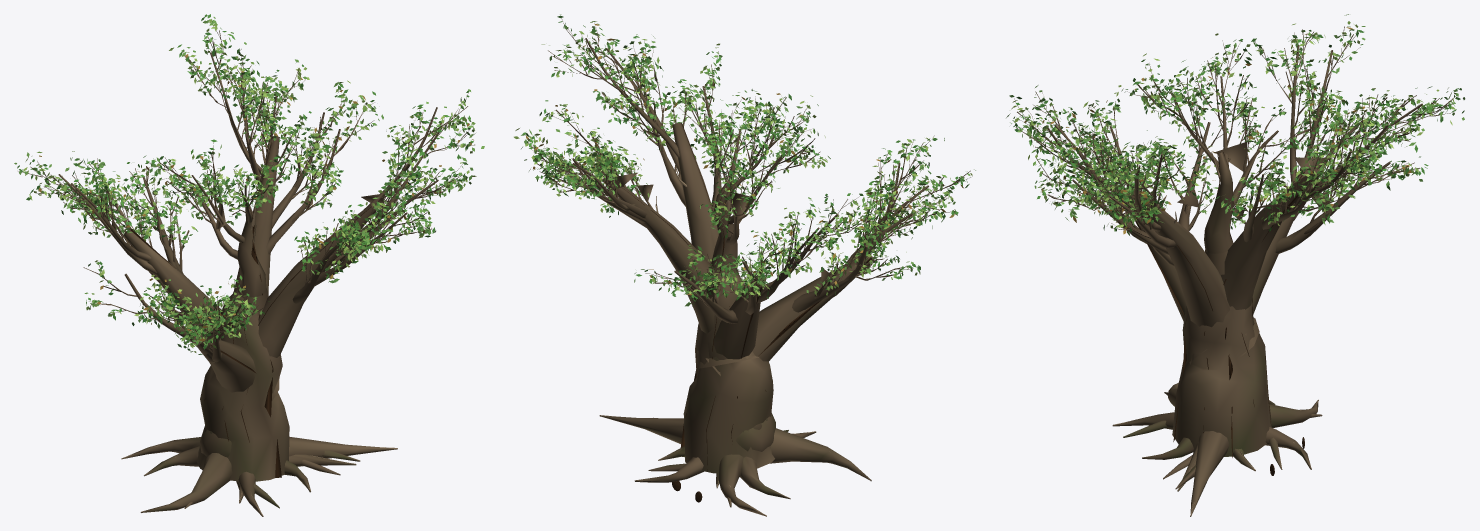
The model's file is ancient_tree_04_lod2.glb.
3 views of the same model, side by side, from view 1: azimuth 30°, elevation 25°; view 2: azimuth 150°, elevation 25°; view 3: azimuth 270°, elevation 25° (orthographic). The views are drawn at different scales.
Parts seen in each view (by area): view 1: AncientTreeWood_LOD2, AncientLeaves_LOD2, FineBranches_LOD2, DirectedBarkGrooves_LOD2; view 2: AncientTreeWood_LOD2, AncientLeaves_LOD2, FineBranches_LOD2, DirectedBarkGrooves_LOD2; view 3: AncientTreeWood_LOD2, AncientLeaves_LOD2, FineBranches_LOD2, DirectedBarkGrooves_LOD2.
Part boxes in pixels (bbox=[...]): AncientTreeWood_LOD2: bbox=[30, 30, 467, 516]; AncientLeaves_LOD2: bbox=[14, 14, 484, 354]; FineBranches_LOD2: bbox=[18, 19, 474, 349]; DirectedBarkGrooves_LOD2: bbox=[127, 136, 371, 477]; AncientTreeWood_LOD2: bbox=[528, 29, 970, 516]; AncientLeaves_LOD2: bbox=[514, 14, 975, 306]; FineBranches_LOD2: bbox=[525, 18, 972, 302]; DirectedBarkGrooves_LOD2: bbox=[612, 123, 871, 471]; AncientTreeWood_LOD2: bbox=[1015, 29, 1448, 516]; AncientLeaves_LOD2: bbox=[1006, 14, 1465, 235]; FineBranches_LOD2: bbox=[1014, 26, 1455, 233]; DirectedBarkGrooves_LOD2: bbox=[1135, 152, 1317, 457].
Bounding box in the file's own units: 23.16 × 21.94 × 22.19.
